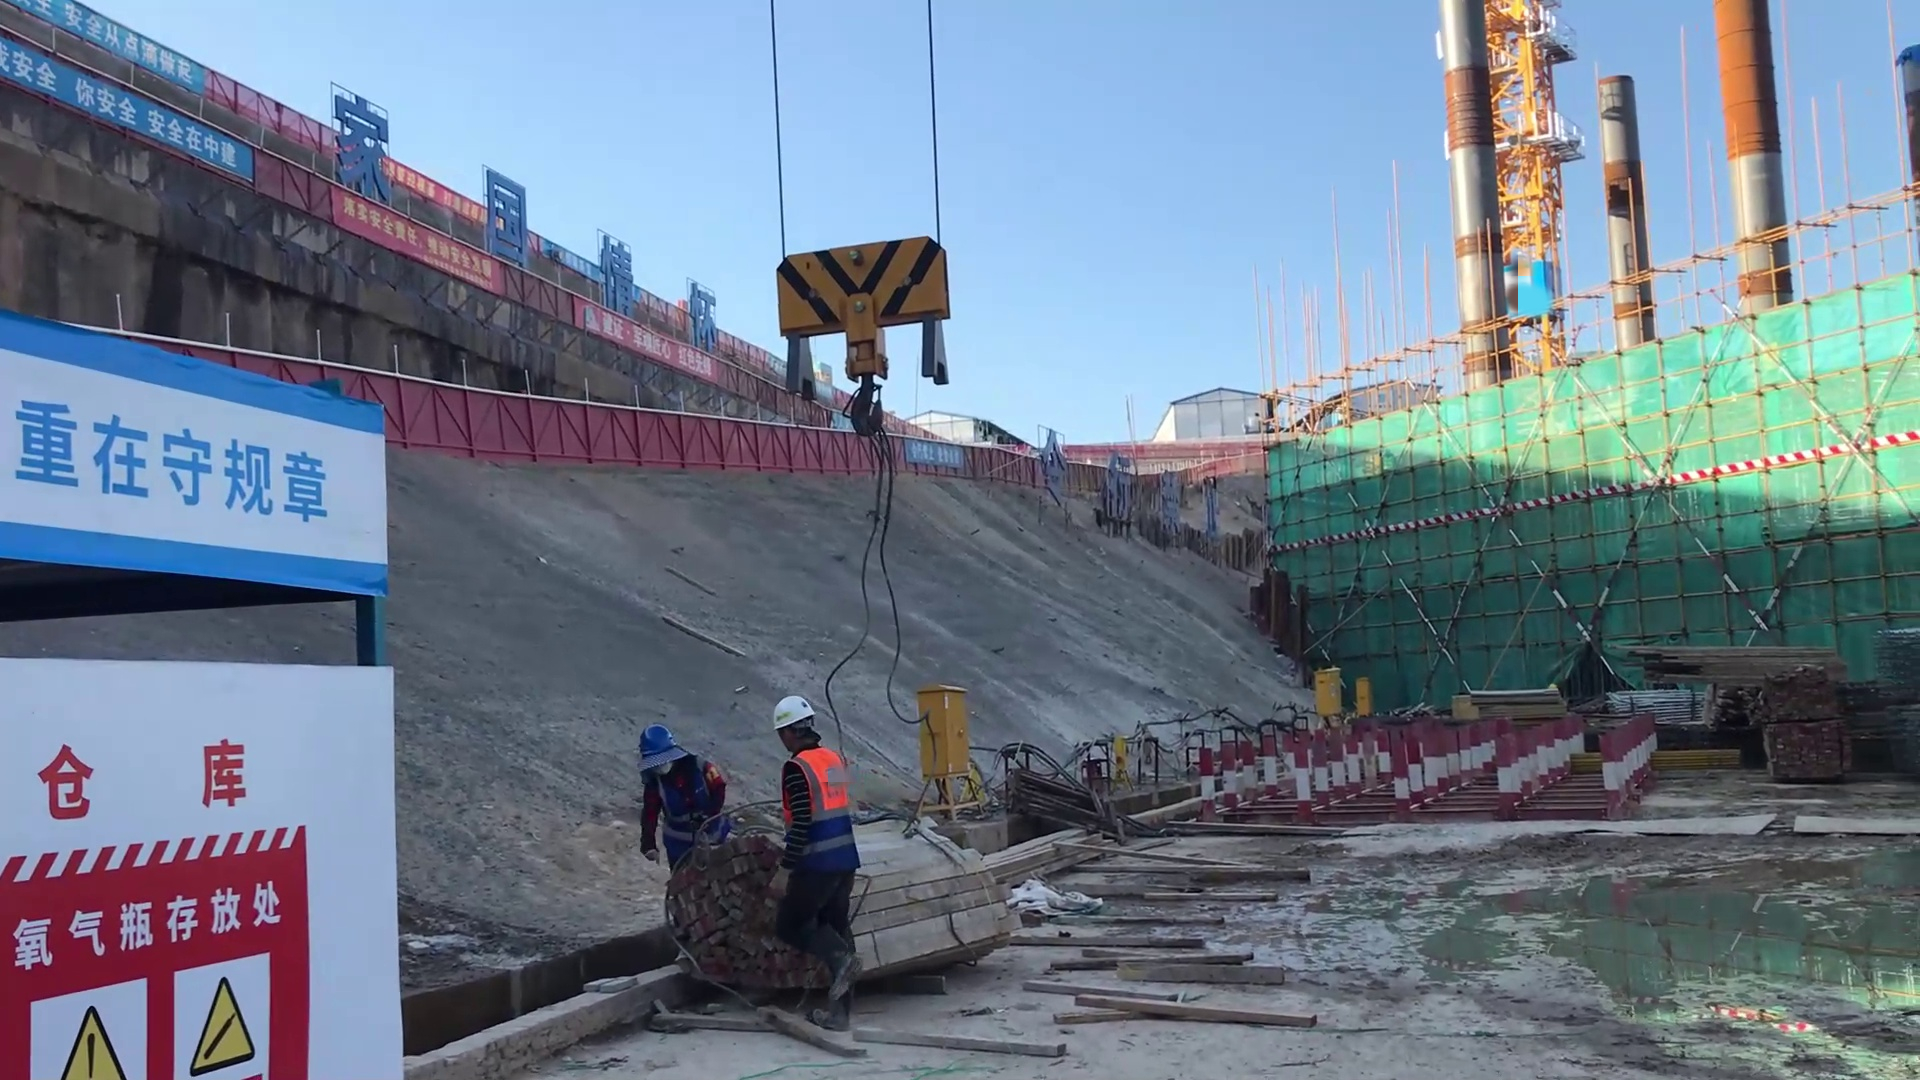ebox: (907, 671, 1003, 815), (1306, 657, 1341, 709), (1349, 675, 1376, 720)
fence: (382, 370, 662, 476), (659, 411, 878, 479)
helmet: (767, 689, 818, 742), (635, 720, 691, 765)
hook: (780, 213, 949, 411)
person: (761, 694, 866, 1014), (630, 719, 723, 869)
slogan: (12, 342, 391, 587), (23, 908, 306, 1080), (1, 46, 244, 193), (312, 202, 525, 342), (30, 1, 240, 123)
vest: (777, 753, 859, 842)
wood: (1612, 627, 1856, 709), (659, 853, 773, 992)
